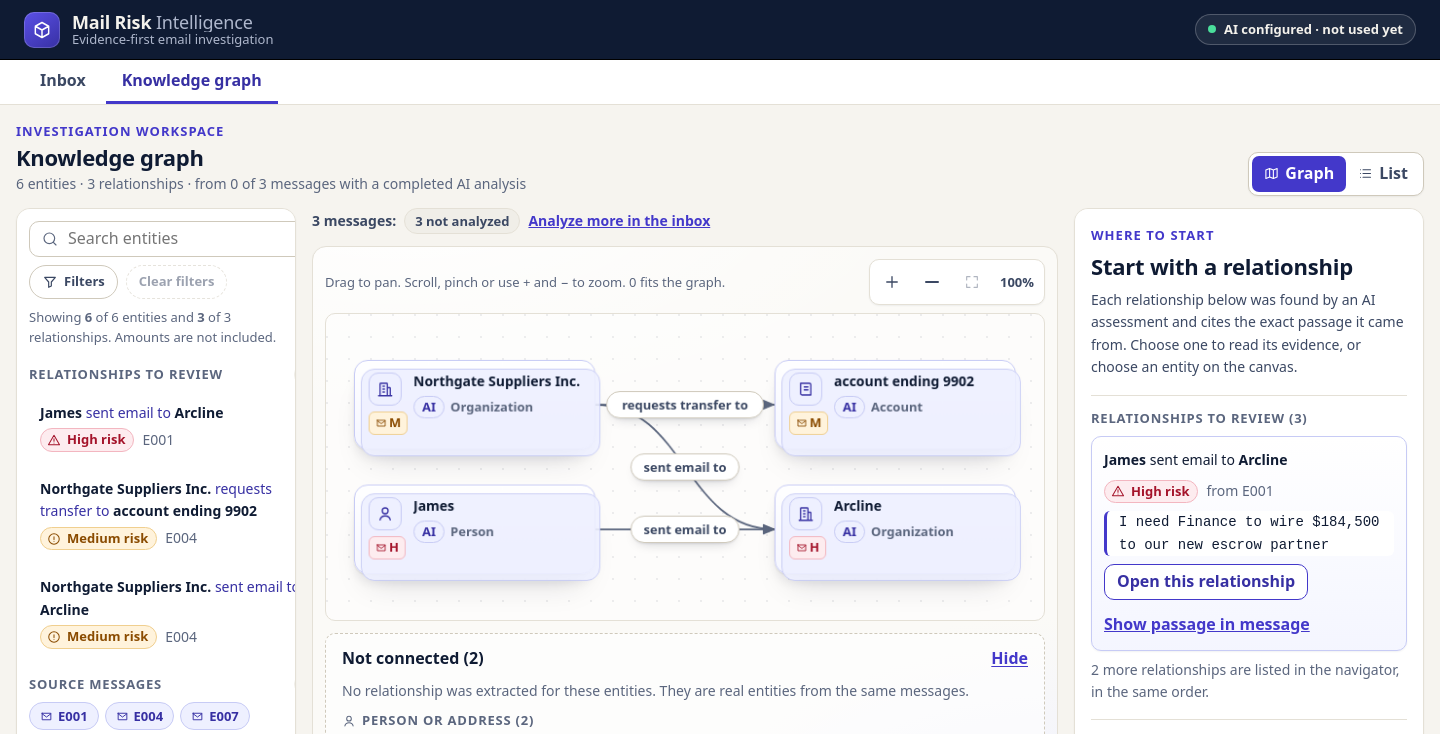
Test case: selection and inspector › source messages link to the existing detail page; unknown ids are shown by id
Expected: the text "6 entities · 3 relationships" is shown, [16,174,526,193]
Click the button with aria-label "Organization Northgate Suppliers Inc." at (475, 405), box [354,360,595,450]
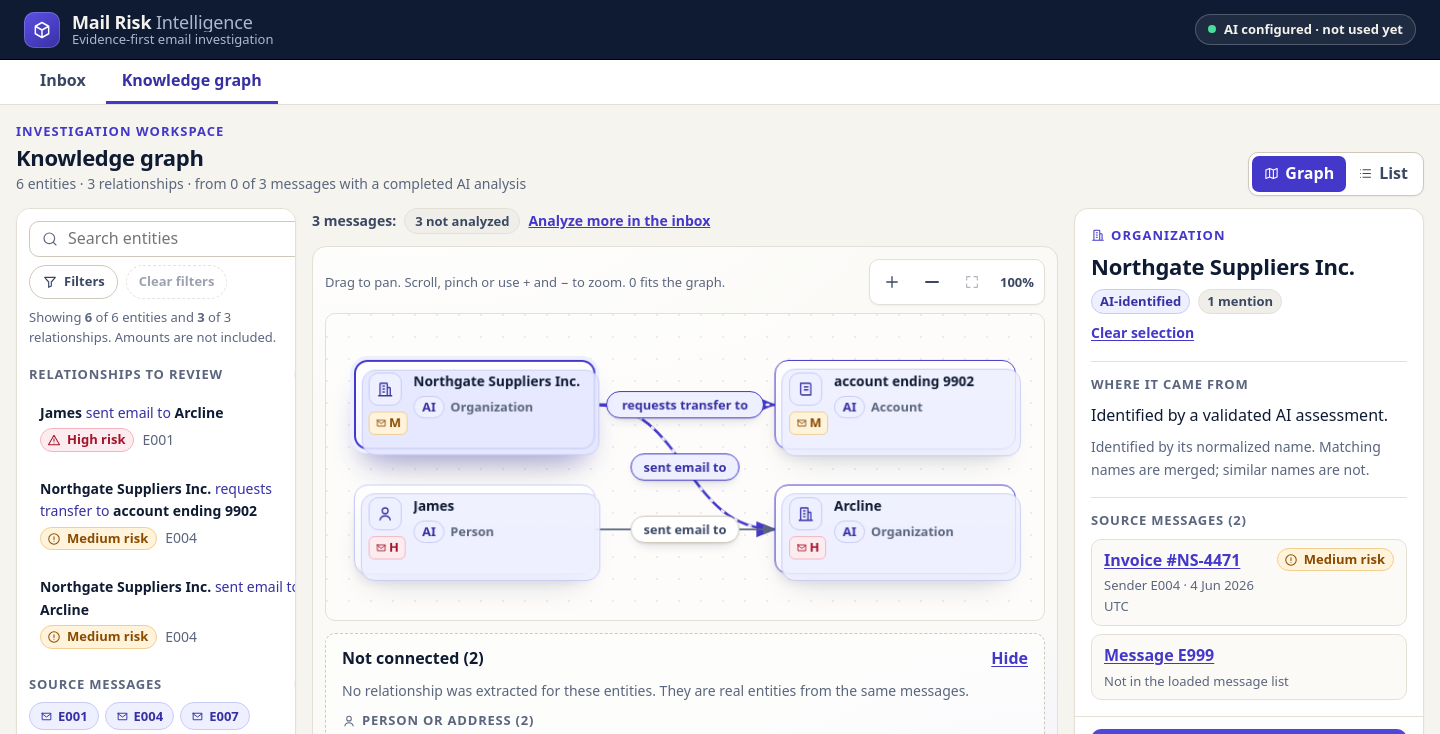
Expected: the text "Message E999" is shown, [1104,644,1214,666]
Expected: the text "Not in the loaded message list" is shown, [1104,671,1289,691]
Click the link "Invoice #NS-4471 Sender E004 · 4 Jun 2026 UTC" at (1186, 582), box [1104,548,1269,617]
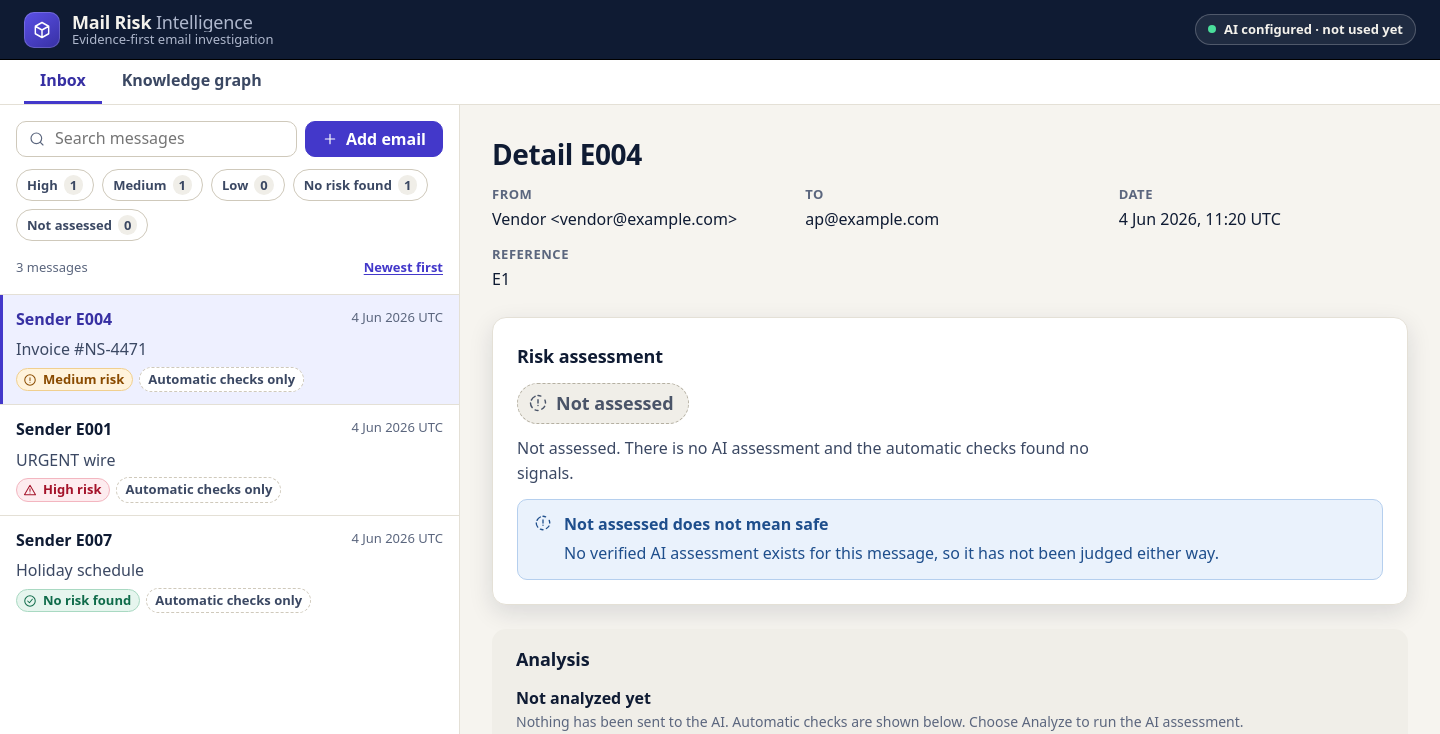
Expected: the heading "Detail E004" is shown, [492,135,642,173]
